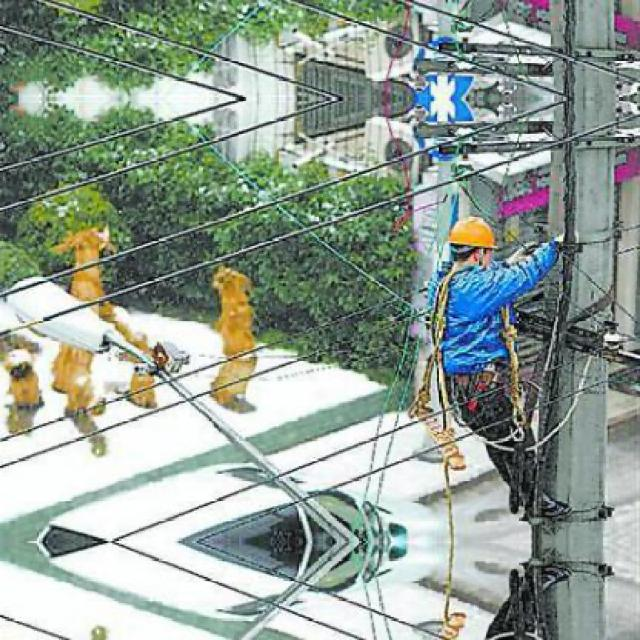con casco: (440, 191, 514, 297)
